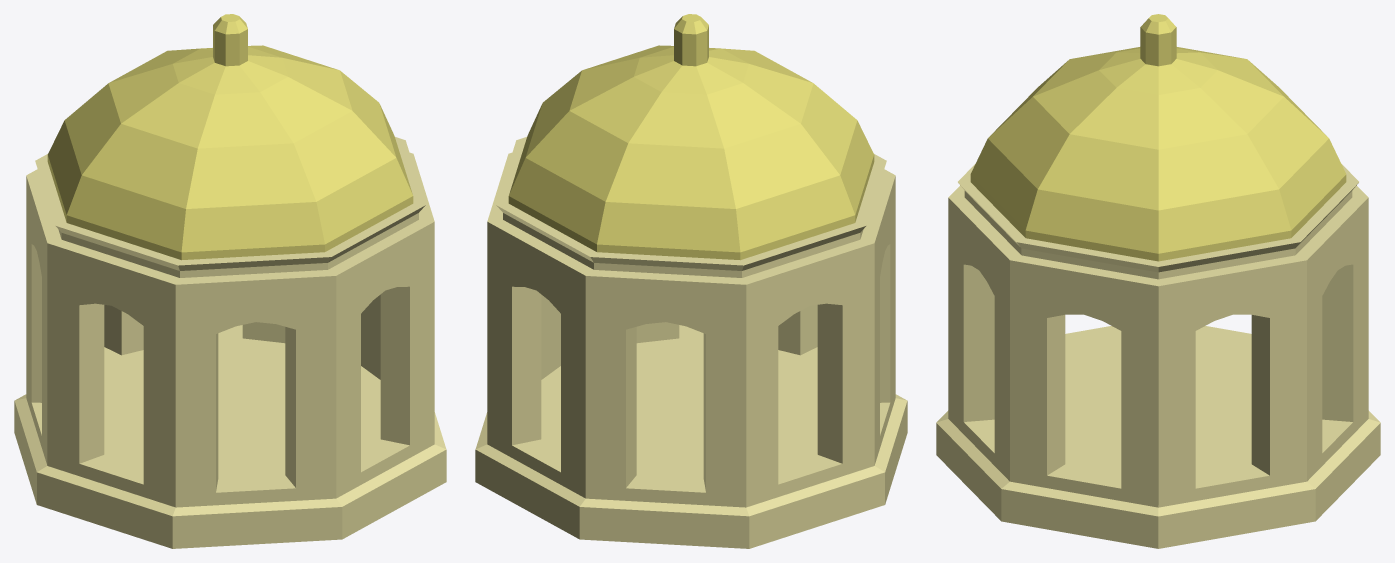
The model's file is islamicbuildingV2.fbx.
3 renders of one model, left to right at view 1: azimuth 30°, elevation 25°; view 2: azimuth 150°, elevation 25°; view 3: azimuth 270°, elevation 25°, orthographic.
Parts seen in each view (by area): view 1: Cylinder, Cylinder.001; view 2: Cylinder, Cylinder.001; view 3: Cylinder, Cylinder.001.
Boxes of the visible parts, box(x1,y1,x2,y2) form: Cylinder: box(14, 137, 446, 548); Cylinder.001: box(47, 14, 413, 260); Cylinder: box(475, 137, 907, 548); Cylinder.001: box(508, 14, 874, 260); Cylinder: box(936, 164, 1380, 548); Cylinder.001: box(970, 14, 1346, 261).
Size of the model in its own units: 578 by 627 by 578.
